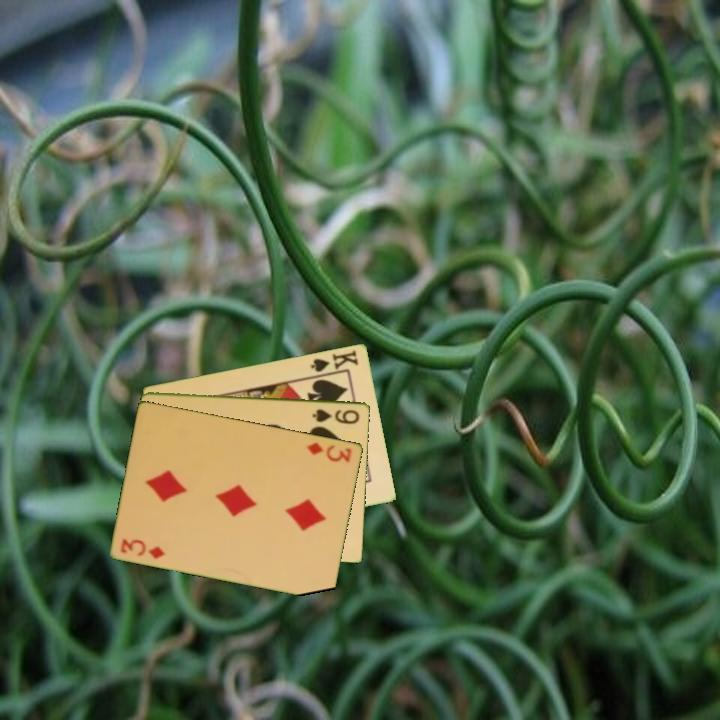3d: (304, 438, 355, 465), (117, 535, 169, 561)
9s: (309, 405, 362, 427)
Ks: (307, 346, 361, 379)
